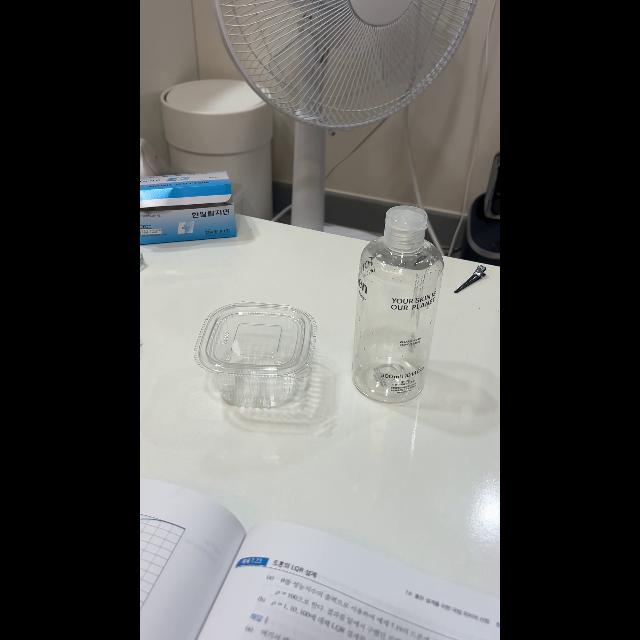clean: (352, 210, 444, 396), (195, 299, 319, 406)
